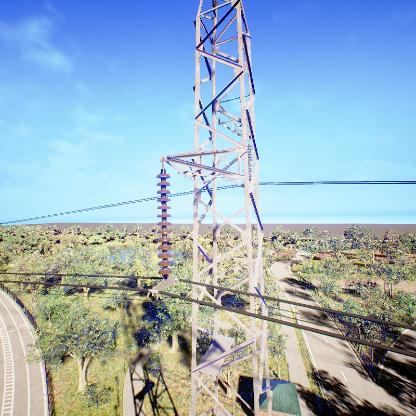insulator: (155, 171, 174, 279)
